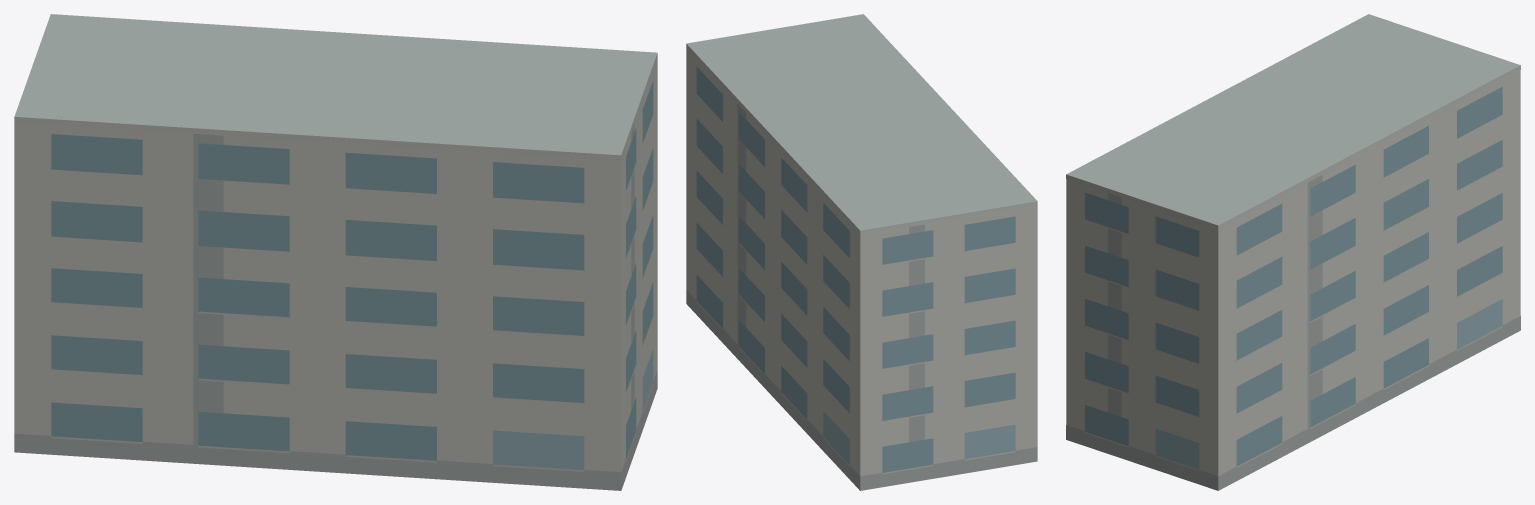
File: survey-upis-32808875.glb
3 views of the same model, side by side, from view 1: azimuth 30°, elevation 25°; view 2: azimuth 150°, elevation 25°; view 3: azimuth 270°, elevation 25° (orthographic). The views are drawn at different scales.
Parts seen in each view (by area): view 1: survey-upis-32808875.tmp; view 2: survey-upis-32808875.tmp; view 3: survey-upis-32808875.tmp.
Boxes of the visible parts, left/top/right/bottom form: survey-upis-32808875.tmp: left=14, top=14, right=657, bottom=490; survey-upis-32808875.tmp: left=686, top=14, right=1037, bottom=490; survey-upis-32808875.tmp: left=1066, top=14, right=1520, bottom=490.
Bounding box in the file's own units: 24.79 × 14.5 × 22.52.
